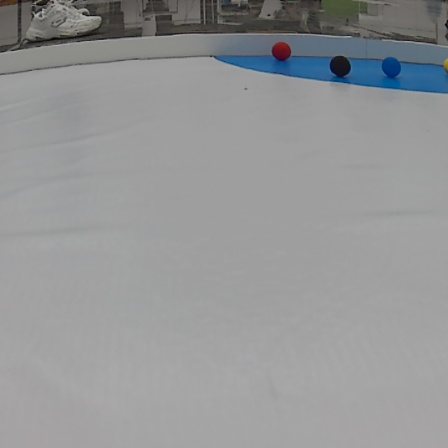black: (327, 52, 354, 76)
blue: (380, 53, 409, 80)
blue_base: (213, 56, 448, 94)
red: (269, 37, 296, 62)
yellow: (444, 59, 448, 76)
